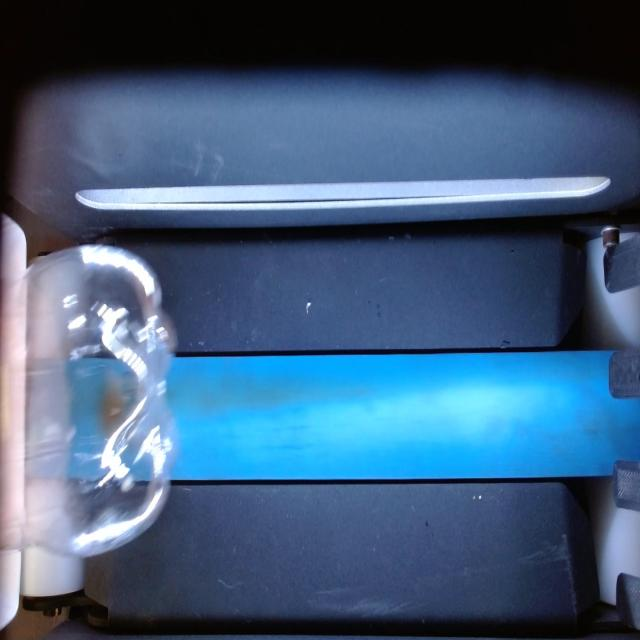bottom: (0, 244, 175, 556)
